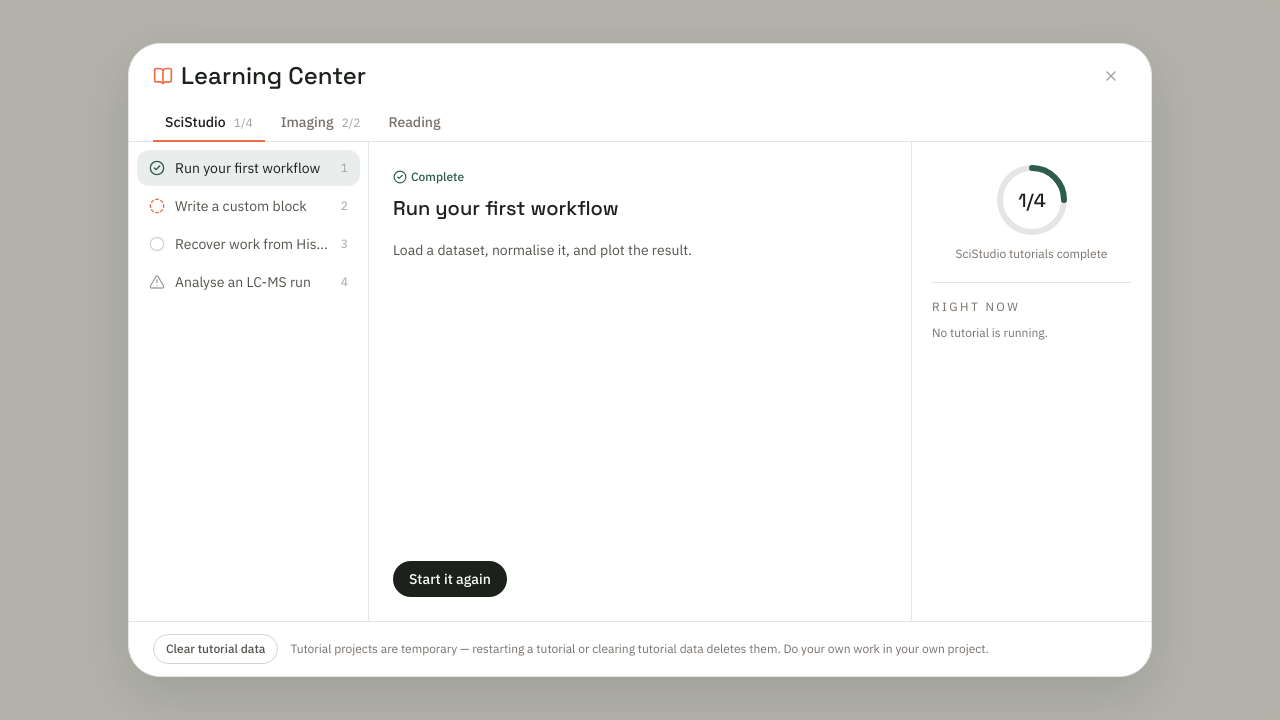
Scenario: Learning Center — one tab per source (FR-084, FR-076) › lists only the selected tab's tutorials
This screenshot has width=1280, height=720.
Check: the button with test id "tutorial-entry-core--first-workflow" is shown, box x1=137 y1=150 x2=360 y2=186
Click the tab with test id "tutorial-tab-package:scistudio-blocks-imaging" at (321, 123), box x1=269 y1=104 x2=372 y2=142
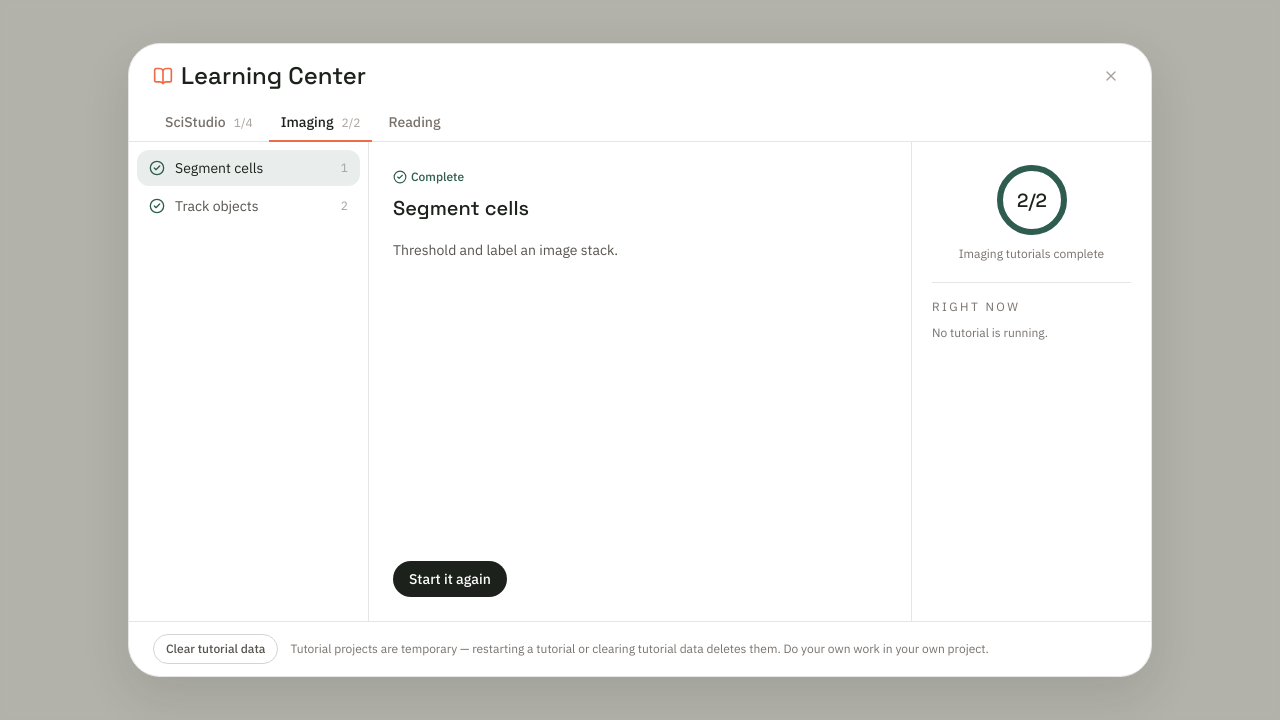
Check: the button with test id "tutorial-entry-package-scistudio-blocks-imaging-segmentation" is shown, box x1=137 y1=150 x2=360 y2=186
Check: the button with test id "tutorial-entry-core--first-workflow" is gone
